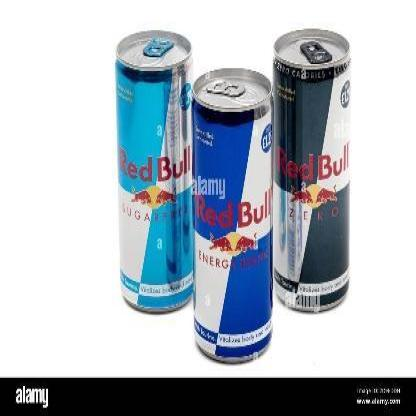alumunium_can: (189, 67, 276, 365), (270, 26, 353, 315), (114, 30, 195, 318)
